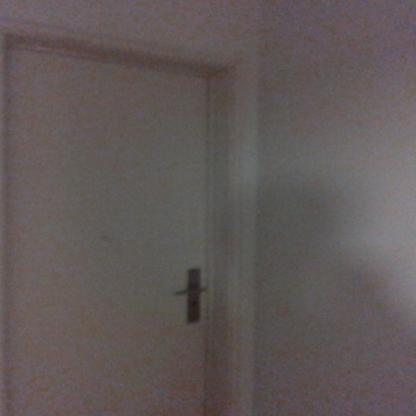door: (5, 46, 214, 416)
lever: (176, 284, 210, 299)
